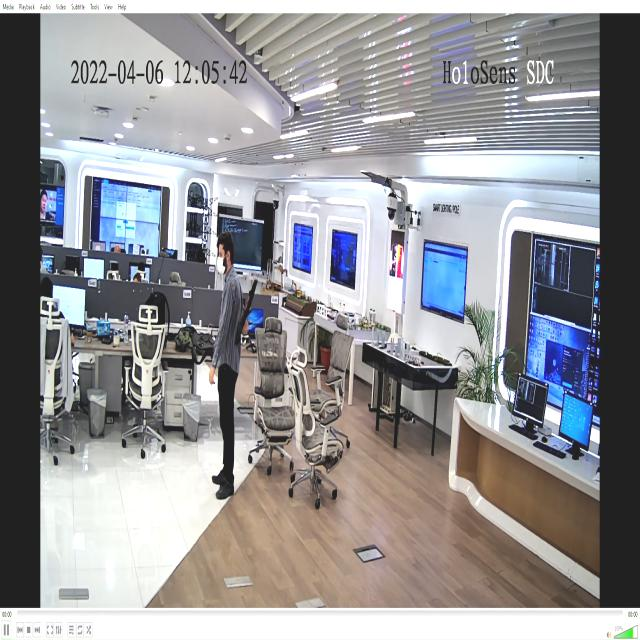long weapon: (233, 275, 263, 355)
